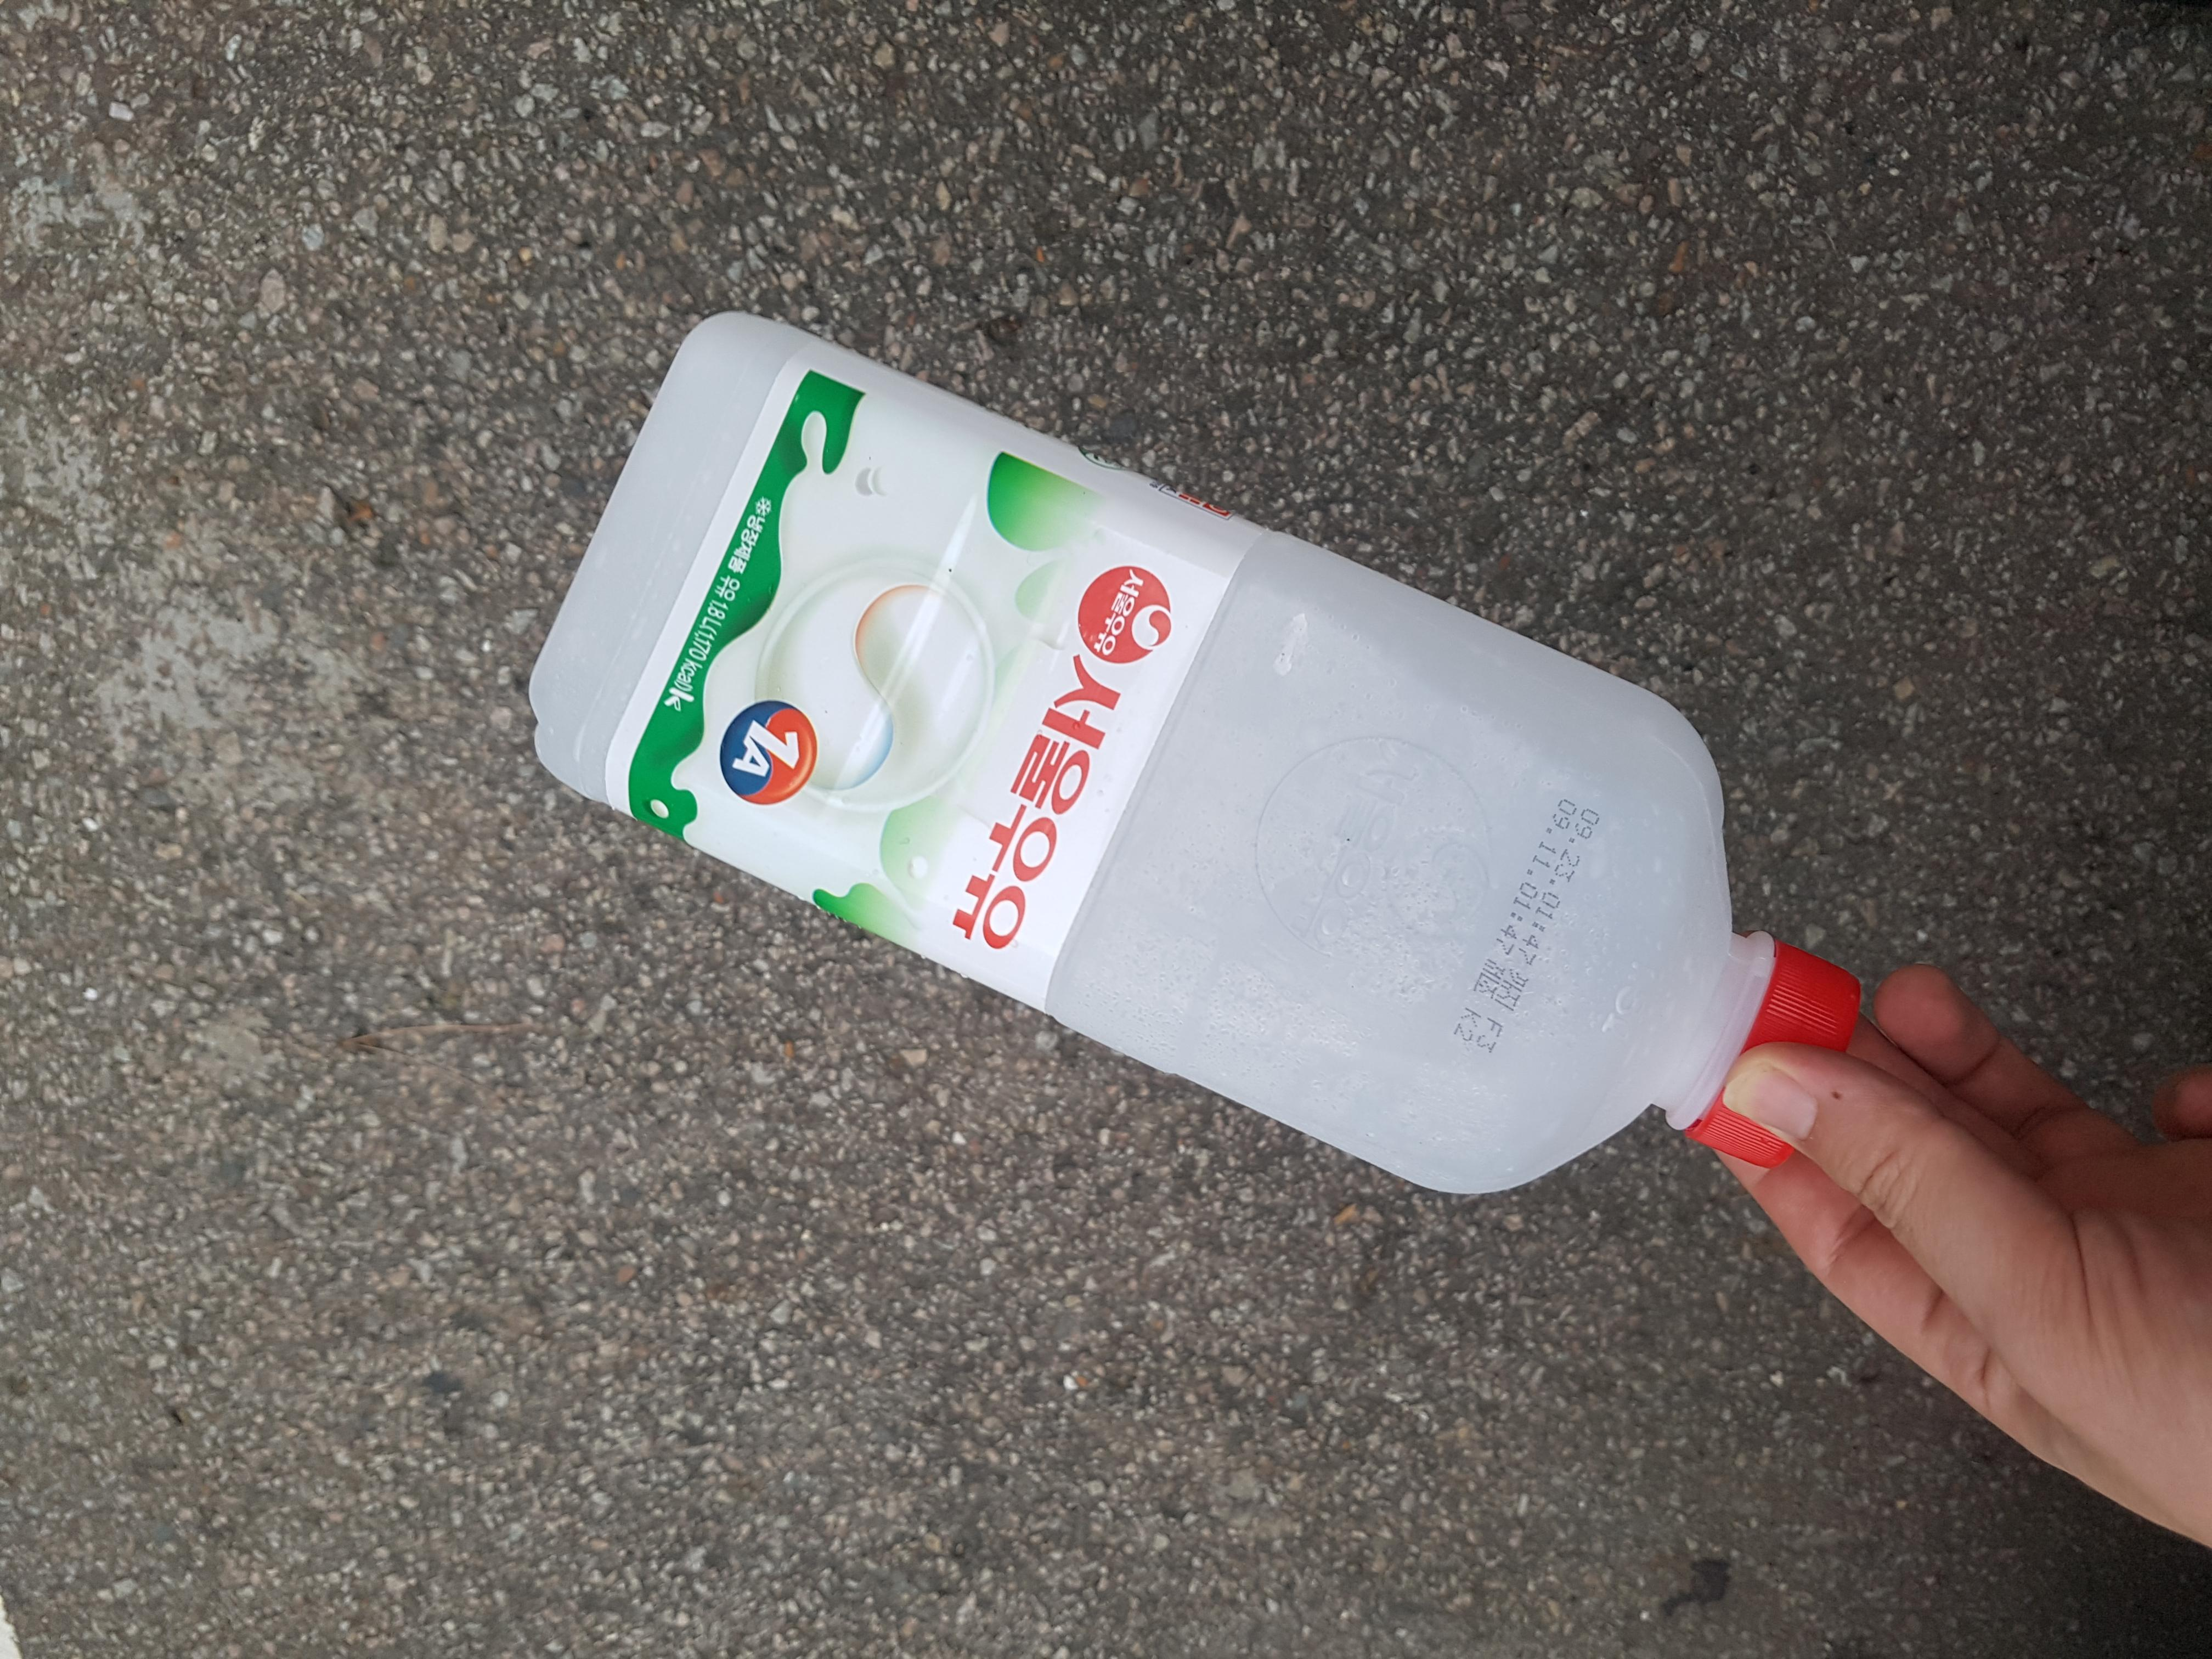bottle: (491, 331, 1825, 1413)
